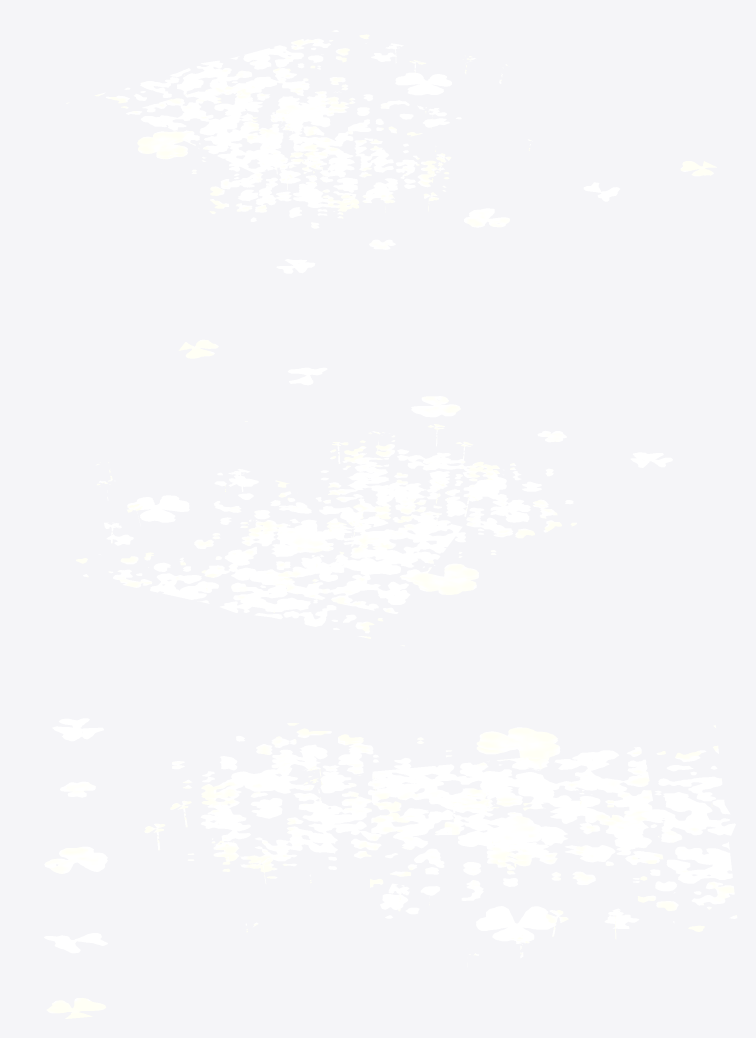
File: tve_clover_01.glb
3 renders of one model, top to bottom at view 1: azimuth 30°, elevation 25°; view 2: azimuth 150°, elevation 25°; view 3: azimuth 270°, elevation 25°, orthographic. The views are drawn at different scales.
Visible parts, largest first — view 1: TVE_Clover_01; view 2: TVE_Clover_01; view 3: TVE_Clover_01.
Boxes of the visible parts, x1,y1,x2,y2 form: TVE_Clover_01: (66,30,716,273); TVE_Clover_01: (76,339,672,646); TVE_Clover_01: (44,718,737,1018).
Size of the model in its own units: 2.32 by 0.1123 by 2.13.
Materials: 1 (1 with a texture image).
